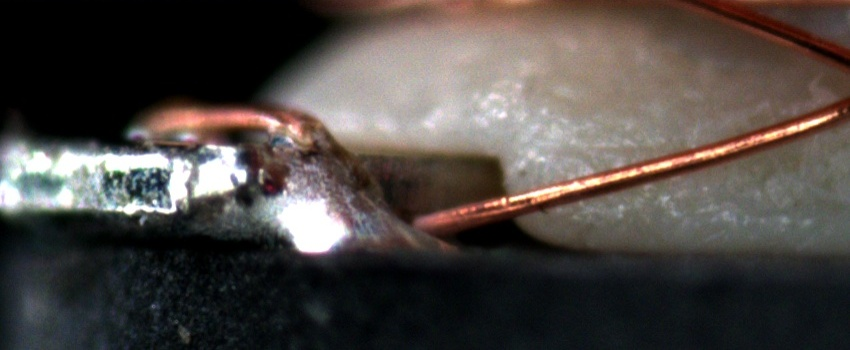DL: (548, 119, 678, 180)
TE: (138, 98, 339, 149)
